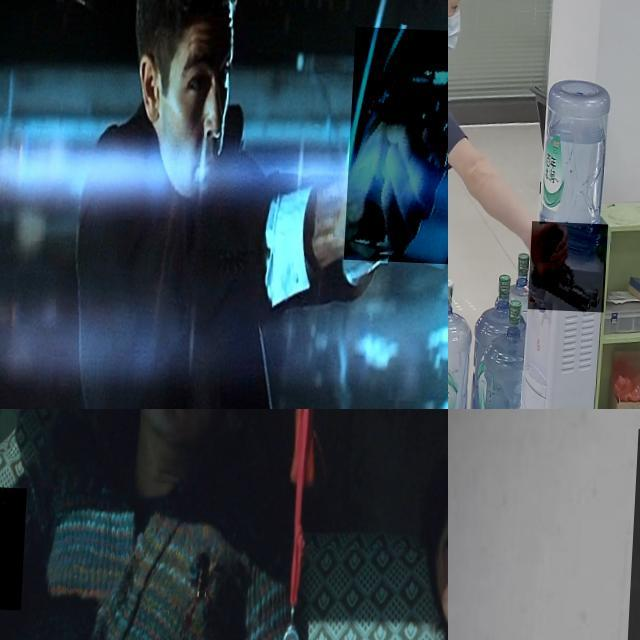gun-knife-thesis - v11 Yolov5 augmented: (347, 22, 448, 260), (532, 217, 612, 307), (0, 483, 52, 608)
